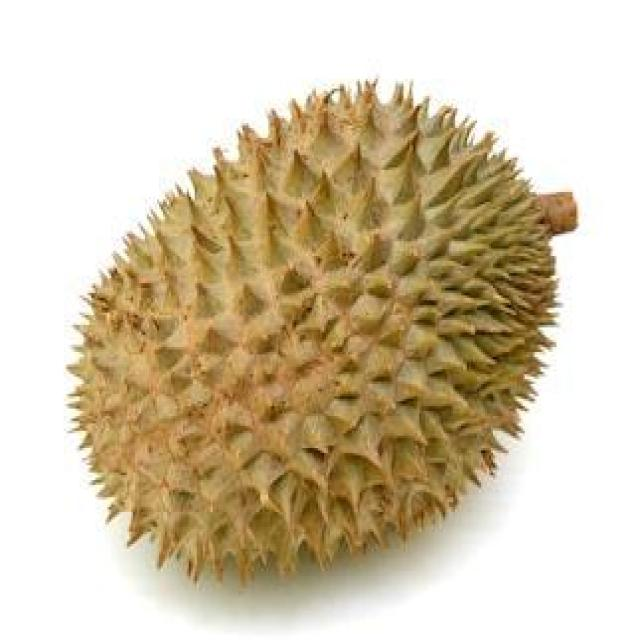mature: (72, 84, 554, 579)
